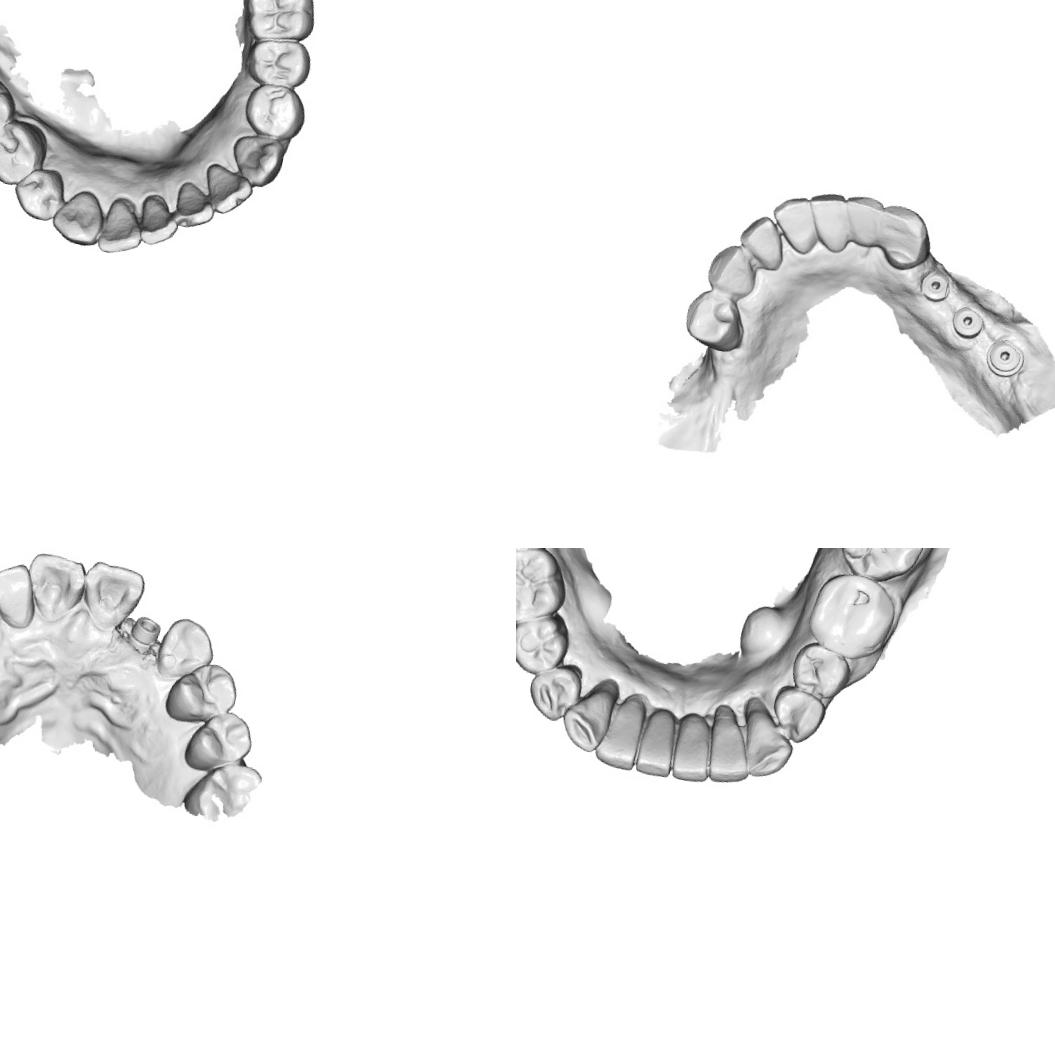canine: (737, 702, 801, 786), (870, 202, 938, 276), (152, 613, 220, 685), (558, 674, 616, 756), (227, 128, 287, 192), (702, 240, 762, 300), (49, 187, 105, 248)
implant: (981, 336, 1028, 382), (122, 611, 166, 654), (948, 303, 987, 342), (916, 267, 954, 305)
incisor: (75, 558, 148, 632), (19, 548, 90, 623), (590, 695, 652, 775), (701, 711, 758, 790), (668, 711, 722, 786), (766, 190, 827, 256), (799, 188, 858, 256), (631, 706, 683, 780), (733, 210, 792, 273), (198, 161, 258, 220), (96, 195, 150, 260), (0, 556, 45, 631), (133, 191, 185, 251), (837, 192, 886, 250), (169, 180, 220, 235)
molar: (802, 565, 904, 666), (180, 754, 266, 827), (516, 548, 572, 633), (833, 548, 933, 589), (239, 0, 319, 50), (0, 66, 17, 149)
premolar: (161, 655, 242, 733), (180, 703, 259, 781), (678, 285, 752, 356), (241, 78, 310, 145), (516, 607, 576, 680), (244, 34, 314, 92), (521, 658, 582, 724), (787, 642, 854, 702), (0, 112, 51, 190), (766, 683, 828, 747), (10, 165, 70, 230)
